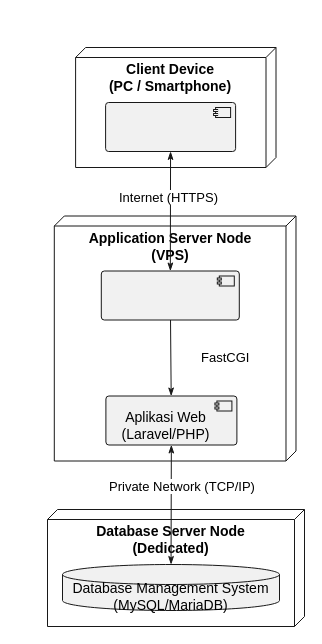
Image size: 322x644. Some labels were removed from this diagram. Each missing label, with the centre of its shape:
Web Browser: the point at 170,127
Web Server (Nginx/Apache): the point at 169,295
